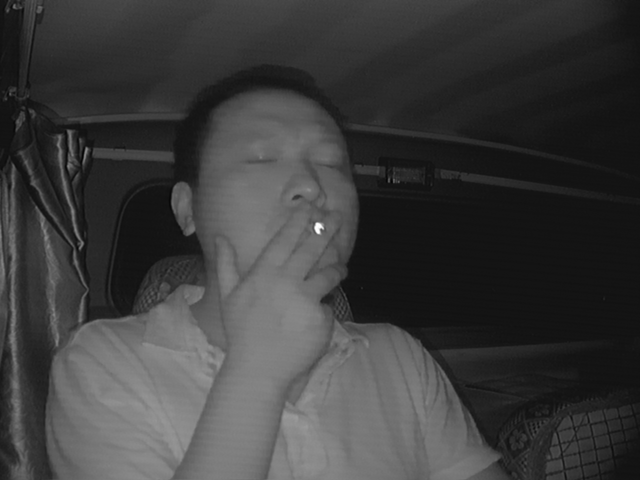hand: (263, 205, 355, 317)
